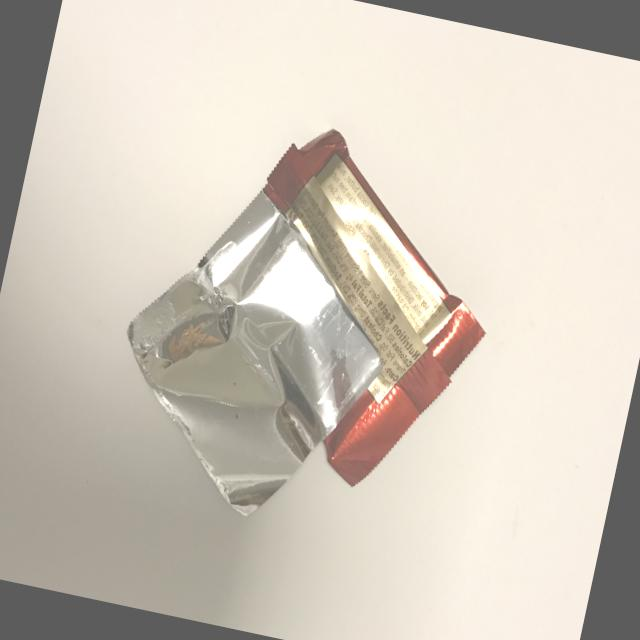Plastic: (74, 83, 518, 581)
